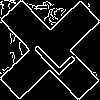L: (25, 25, 77, 78)
